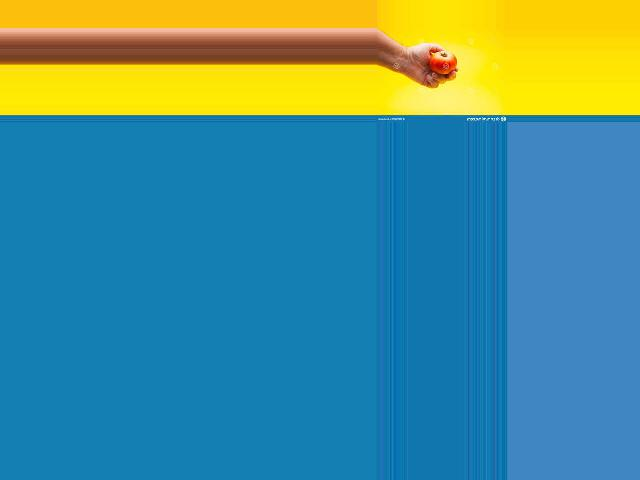tomato: (429, 51, 456, 74)
